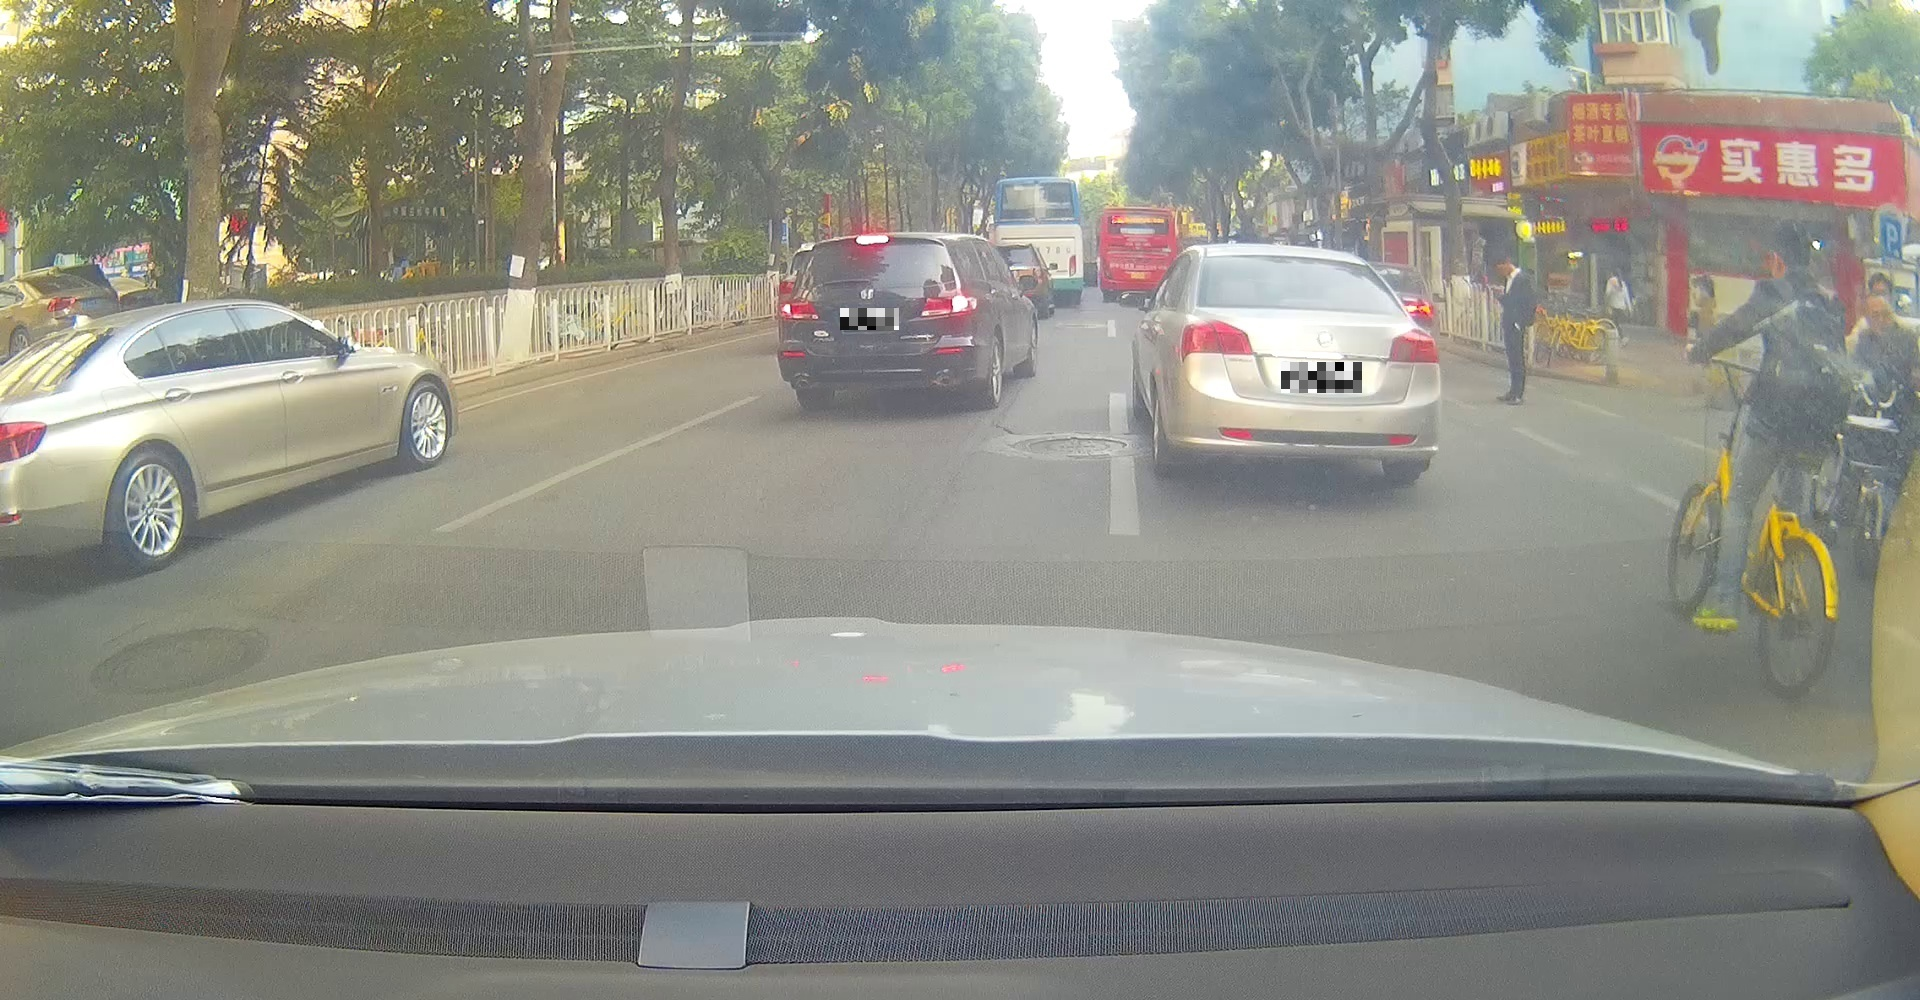L_light: (1178, 319, 1256, 363), (777, 298, 819, 321)
R_light: (1388, 327, 1439, 364), (919, 291, 978, 320)
T_light: (1270, 255, 1310, 264), (855, 235, 889, 244)
day-brake: (777, 232, 987, 411)
day-no: (1166, 244, 1443, 484)
plate_1: (841, 308, 899, 330)
plate_2: (1281, 362, 1363, 393)
